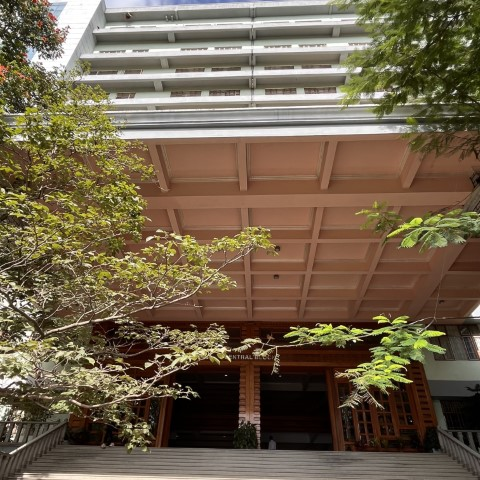Central Block: (59, 5, 480, 480)
